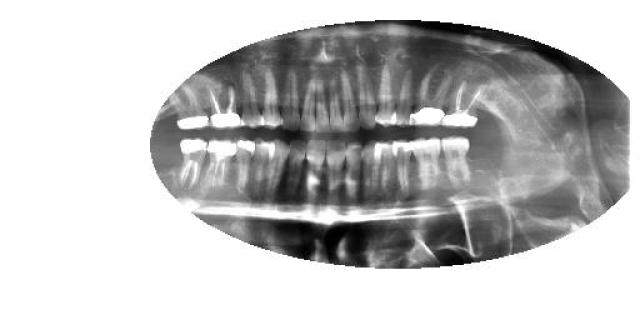Fillings: (408, 64, 452, 128), (170, 84, 208, 130), (390, 138, 412, 196), (236, 136, 255, 192)
Implant: (440, 81, 486, 130), (206, 138, 239, 188), (176, 138, 206, 192), (208, 84, 242, 130)
